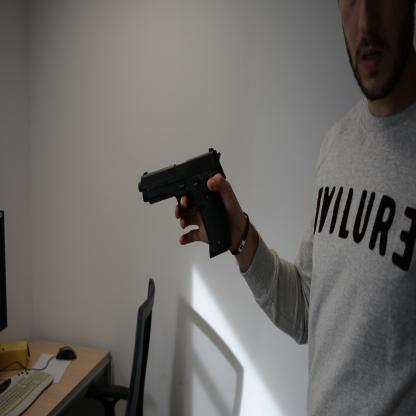pistol: (138, 146, 232, 258)
